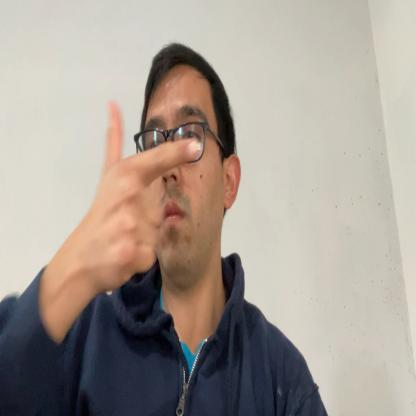G: (93, 99, 198, 287)
